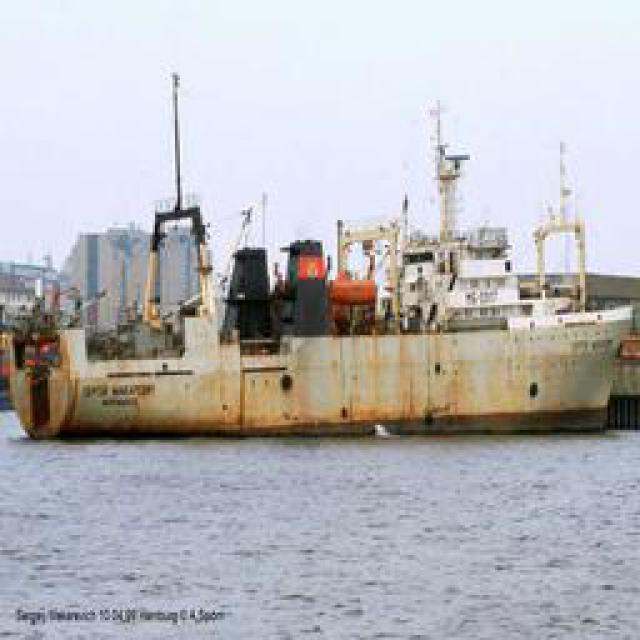Ship: (12, 85, 632, 445)
